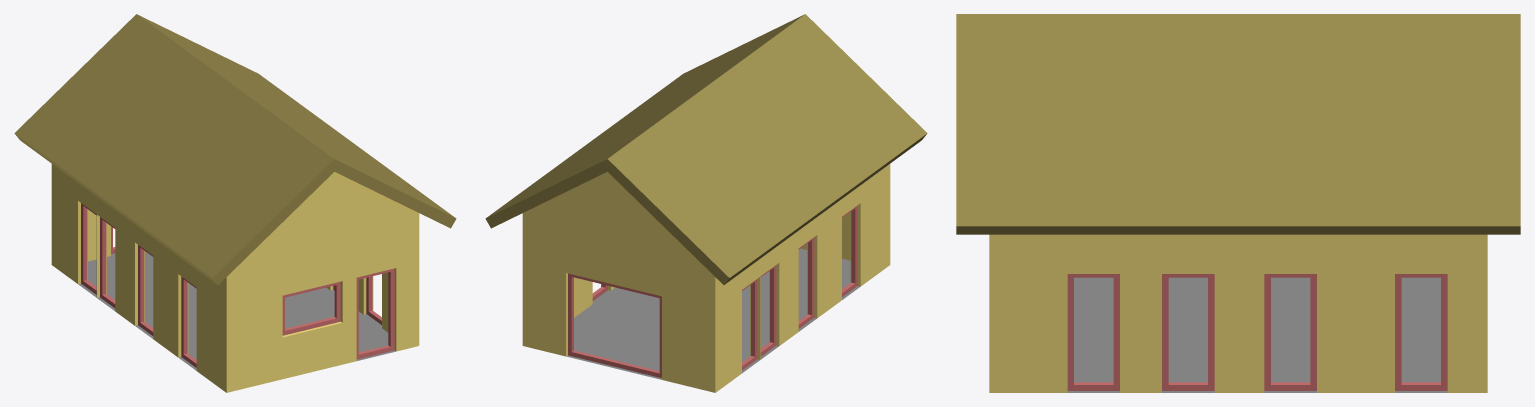
File: result.glb
The picture shows the model from 3 angles, left to right: view 1: azimuth 30°, elevation 25°; view 2: azimuth 150°, elevation 25°; view 3: azimuth 270°, elevation 25°; orthographic projection. The views are drawn at different scales.
Visible parts, largest first — view 1: df707c10-e185-418c-8edf-1c85c55730c7__undefined (×2), 02a824e5-bd81-4283-b7a8-6a0a4eea11d5__undefined, aad564a0-be38-4e56-905b-af7561a39a6b__Plane_20, f3160c29-37c0-4d0d-b251-4939a9b70b73__Box, b2a1f5ed-b2c1-40ab-80d4-c9dbf9a8f726__Box_3, 1791a0c5-dd04-4149-8dd5-2ae279f87e8e__Box_18, f2c41ba7-bdc5-4db9-a622-8b2ab2fd08b4__Box_12, 3e5ab877-da1e-402c-b684-531f5fc7e7fa__Box_15, 86a1e4c1-0ae2-47e0-a8e2-1f2aa8c629c9__Box_21; view 2: df707c10-e185-418c-8edf-1c85c55730c7__undefined (×2), 02a824e5-bd81-4283-b7a8-6a0a4eea11d5__undefined, aad564a0-be38-4e56-905b-af7561a39a6b__Plane_20, a318e7bd-25b0-48a4-bb13-30ebf87b332b__Box_9, 3e5ab877-da1e-402c-b684-531f5fc7e7fa__Box_15, 1791a0c5-dd04-4149-8dd5-2ae279f87e8e__Box_18, f2c41ba7-bdc5-4db9-a622-8b2ab2fd08b4__Box_12, 86a1e4c1-0ae2-47e0-a8e2-1f2aa8c629c9__Box_21; view 3: df707c10-e185-418c-8edf-1c85c55730c7__undefined, 02a824e5-bd81-4283-b7a8-6a0a4eea11d5__undefined, aad564a0-be38-4e56-905b-af7561a39a6b__Plane_20, 1c9c62e5-6f98-4f5b-8fe0-11edc6a18ff8__Box_36, 98dd39ef-3d87-4eaf-907e-b864d7683668__Box_39, f0980803-2767-41f0-8e11-390835036668__Box_42, 6e173449-ed7d-4a60-be77-c36feacd2314__Box_45.
Part boxes in pixels (left/top/right/bottom): df707c10-e185-418c-8edf-1c85c55730c7__undefined (×2): left=14, top=14, right=456, bottom=284; 02a824e5-bd81-4283-b7a8-6a0a4eea11d5__undefined: left=51, top=164, right=419, bottom=392; aad564a0-be38-4e56-905b-af7561a39a6b__Plane_20: left=78, top=251, right=395, bottom=370; f3160c29-37c0-4d0d-b251-4939a9b70b73__Box: left=356, top=268, right=394, bottom=359; b2a1f5ed-b2c1-40ab-80d4-c9dbf9a8f726__Box_3: left=282, top=281, right=340, bottom=335; 1791a0c5-dd04-4149-8dd5-2ae279f87e8e__Box_18: left=100, top=217, right=115, bottom=308; f2c41ba7-bdc5-4db9-a622-8b2ab2fd08b4__Box_12: left=181, top=276, right=196, bottom=367; 3e5ab877-da1e-402c-b684-531f5fc7e7fa__Box_15: left=138, top=245, right=153, bottom=335; 86a1e4c1-0ae2-47e0-a8e2-1f2aa8c629c9__Box_21: left=81, top=203, right=96, bottom=294; df707c10-e185-418c-8edf-1c85c55730c7__undefined (×2): left=485, top=14, right=927, bottom=284; 02a824e5-bd81-4283-b7a8-6a0a4eea11d5__undefined: left=522, top=164, right=890, bottom=392; aad564a0-be38-4e56-905b-af7561a39a6b__Plane_20: left=566, top=248, right=859, bottom=379; a318e7bd-25b0-48a4-bb13-30ebf87b332b__Box_9: left=568, top=273, right=661, bottom=377; 3e5ab877-da1e-402c-b684-531f5fc7e7fa__Box_15: left=798, top=237, right=814, bottom=328; 1791a0c5-dd04-4149-8dd5-2ae279f87e8e__Box_18: left=760, top=265, right=776, bottom=356; f2c41ba7-bdc5-4db9-a622-8b2ab2fd08b4__Box_12: left=842, top=205, right=857, bottom=296; 86a1e4c1-0ae2-47e0-a8e2-1f2aa8c629c9__Box_21: left=742, top=279, right=757, bottom=370; df707c10-e185-418c-8edf-1c85c55730c7__undefined: left=956, top=14, right=1520, bottom=234; 02a824e5-bd81-4283-b7a8-6a0a4eea11d5__undefined: left=989, top=234, right=1487, bottom=392; aad564a0-be38-4e56-905b-af7561a39a6b__Plane_20: left=1067, top=277, right=1447, bottom=392; 1c9c62e5-6f98-4f5b-8fe0-11edc6a18ff8__Box_36: left=1067, top=274, right=1119, bottom=390; 98dd39ef-3d87-4eaf-907e-b864d7683668__Box_39: left=1162, top=274, right=1214, bottom=390; f0980803-2767-41f0-8e11-390835036668__Box_42: left=1264, top=274, right=1316, bottom=390; 6e173449-ed7d-4a60-be77-c36feacd2314__Box_45: left=1395, top=274, right=1447, bottom=390.
Size of the model in its own units: 612 by 524 by 859.
